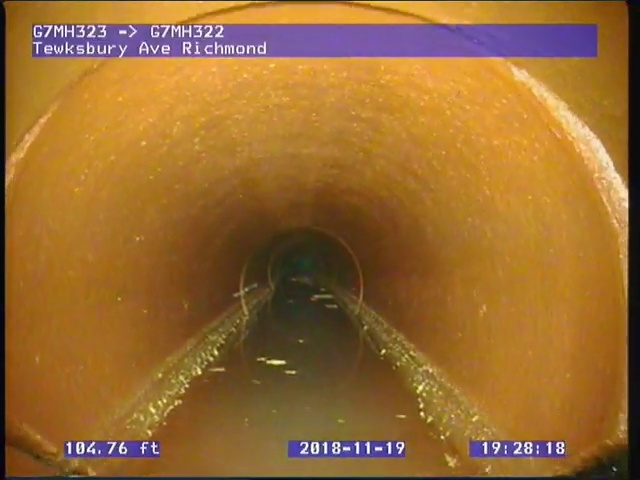crack: (4, 417, 99, 479), (543, 440, 627, 478)
